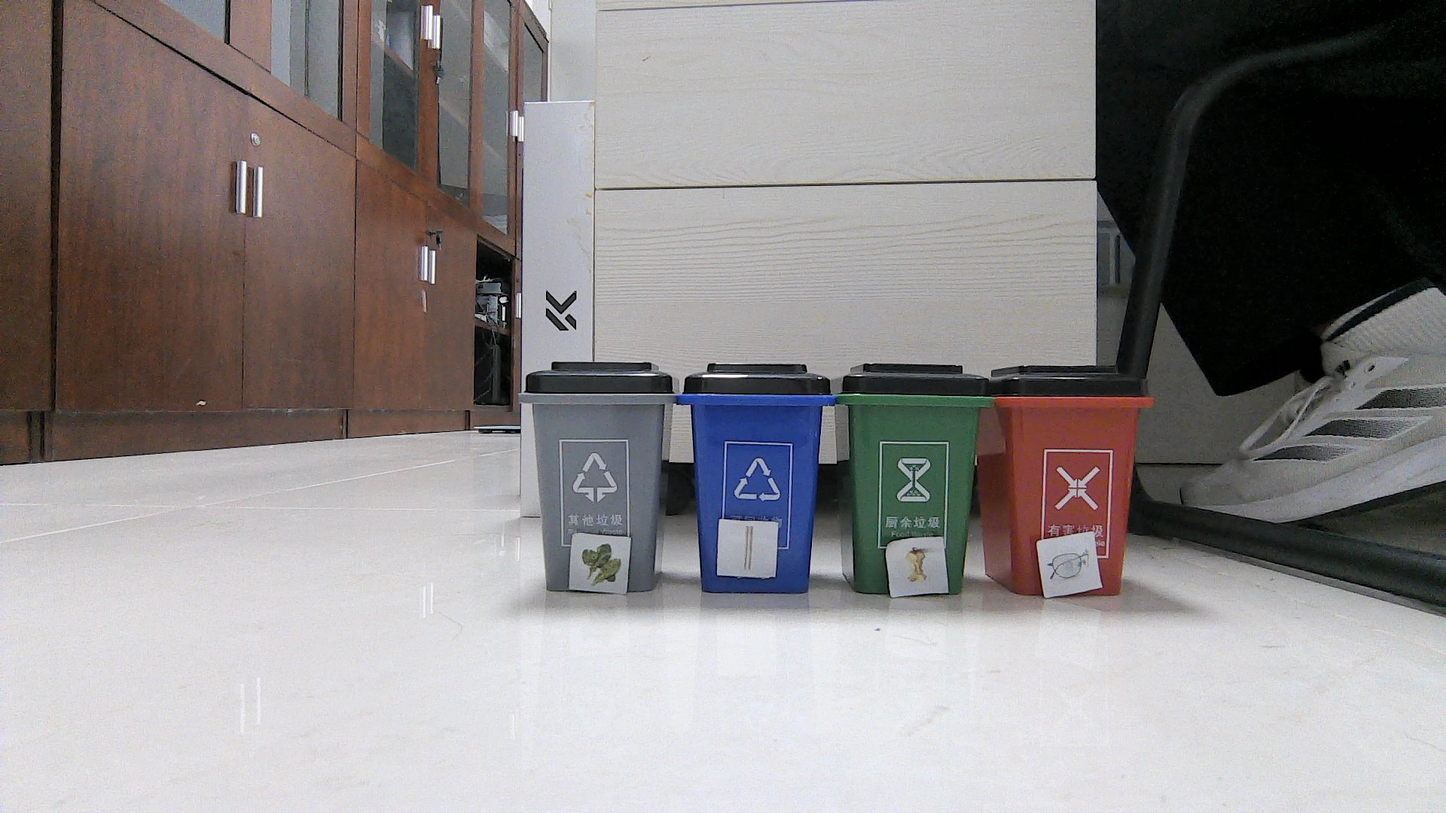food_trash: (891, 541, 942, 593), (574, 539, 625, 589)
other_trash: (1042, 538, 1097, 592), (723, 523, 774, 573)
